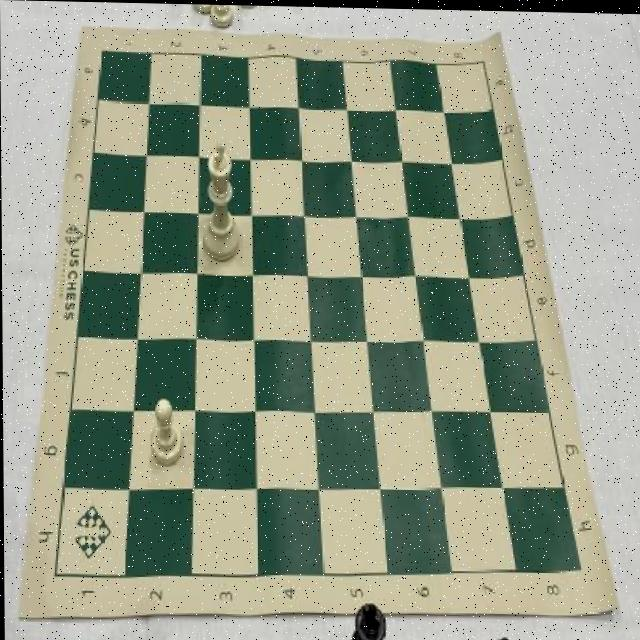white-bishop: (198, 136, 243, 266)
white-knight: (144, 389, 187, 472)
